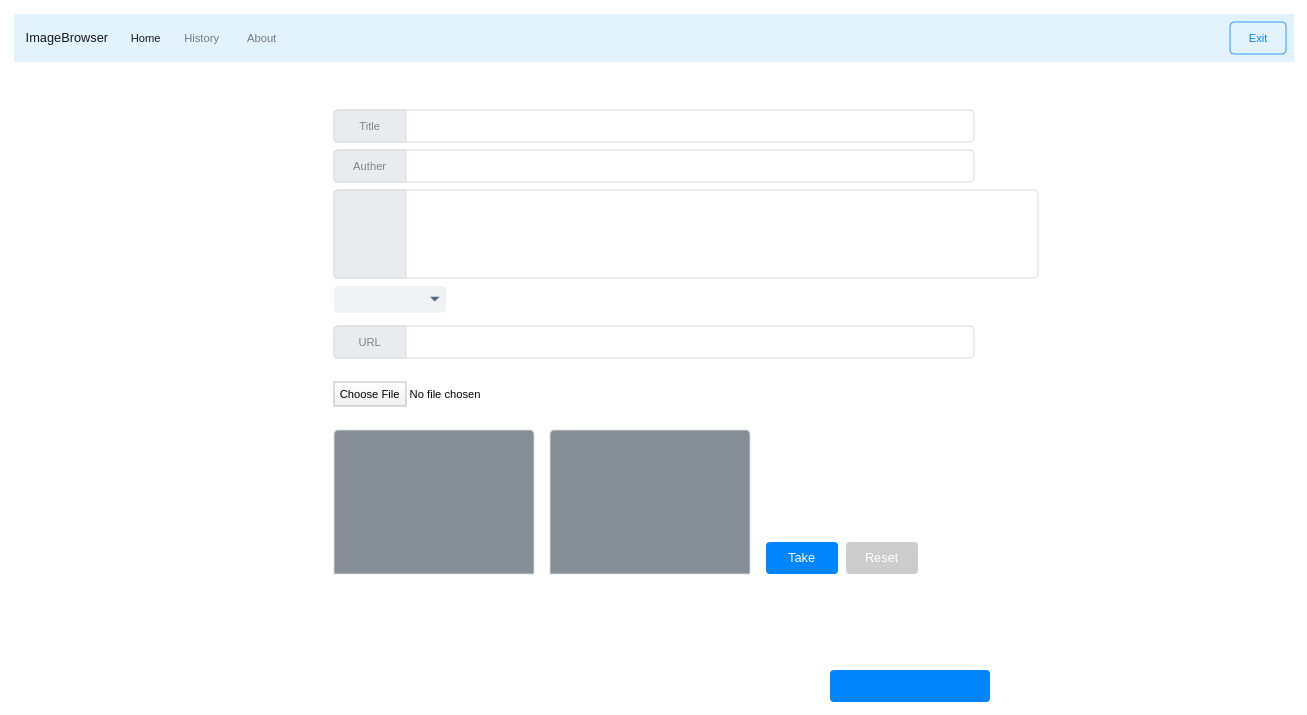
Image size: 1307x715. Some labels were removed from this diagram. The shapes that lost their labels are listed below. From the top down, each one's centre as x and y in pixels, then its label:
point (369, 233): Description
point (390, 299): Dropdown button
point (910, 686): Submit
